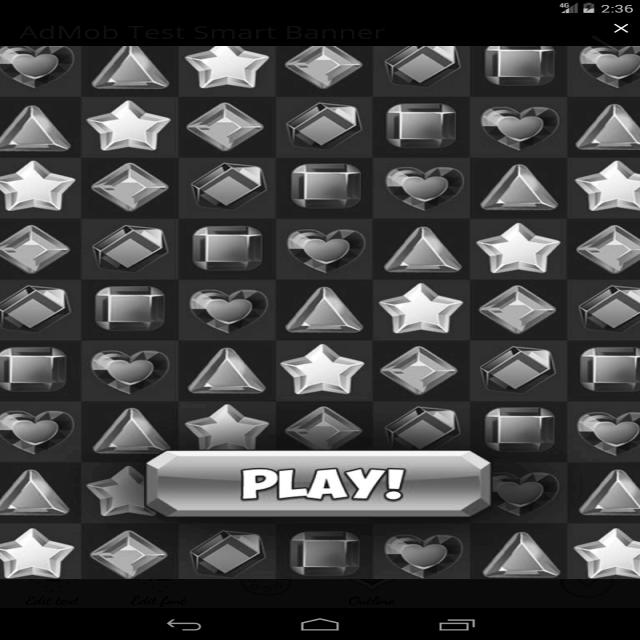CheckBox: (140, 450, 498, 518)
ImageView: (41, 52, 576, 434)
